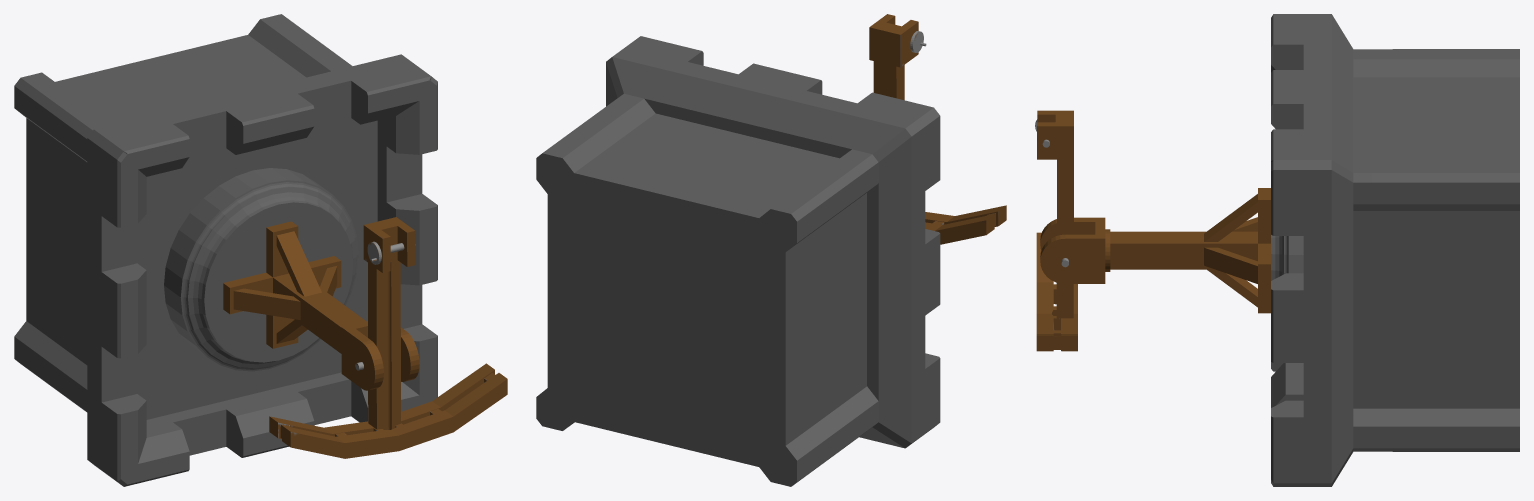
Rendered from Turret_Balista.fbx.
3 views of the same model, side by side, from view 1: azimuth 30°, elevation 25°; view 2: azimuth 150°, elevation 25°; view 3: azimuth 270°, elevation 25° (orthographic). The views are drawn at different scales.
Visible parts, largest first — view 1: Base, Bow, Stand, Holder; view 2: Base, Bow; view 3: Base, Stand, Bow, Holder.
Boxes of the visible parts, bbox=[...] form: Base: bbox=[14, 14, 437, 486]; Bow: bbox=[269, 217, 507, 458]; Stand: bbox=[223, 221, 365, 353]; Holder: bbox=[341, 321, 419, 390]; Base: bbox=[536, 36, 940, 486]; Bow: bbox=[869, 14, 1006, 244]; Base: bbox=[1271, 14, 1519, 486]; Stand: bbox=[1105, 188, 1270, 313]; Bow: bbox=[1035, 110, 1077, 351]; Holder: bbox=[1040, 217, 1105, 283].
Bounding box in the file's own units: 3.6 × 3.6 × 4.84.
